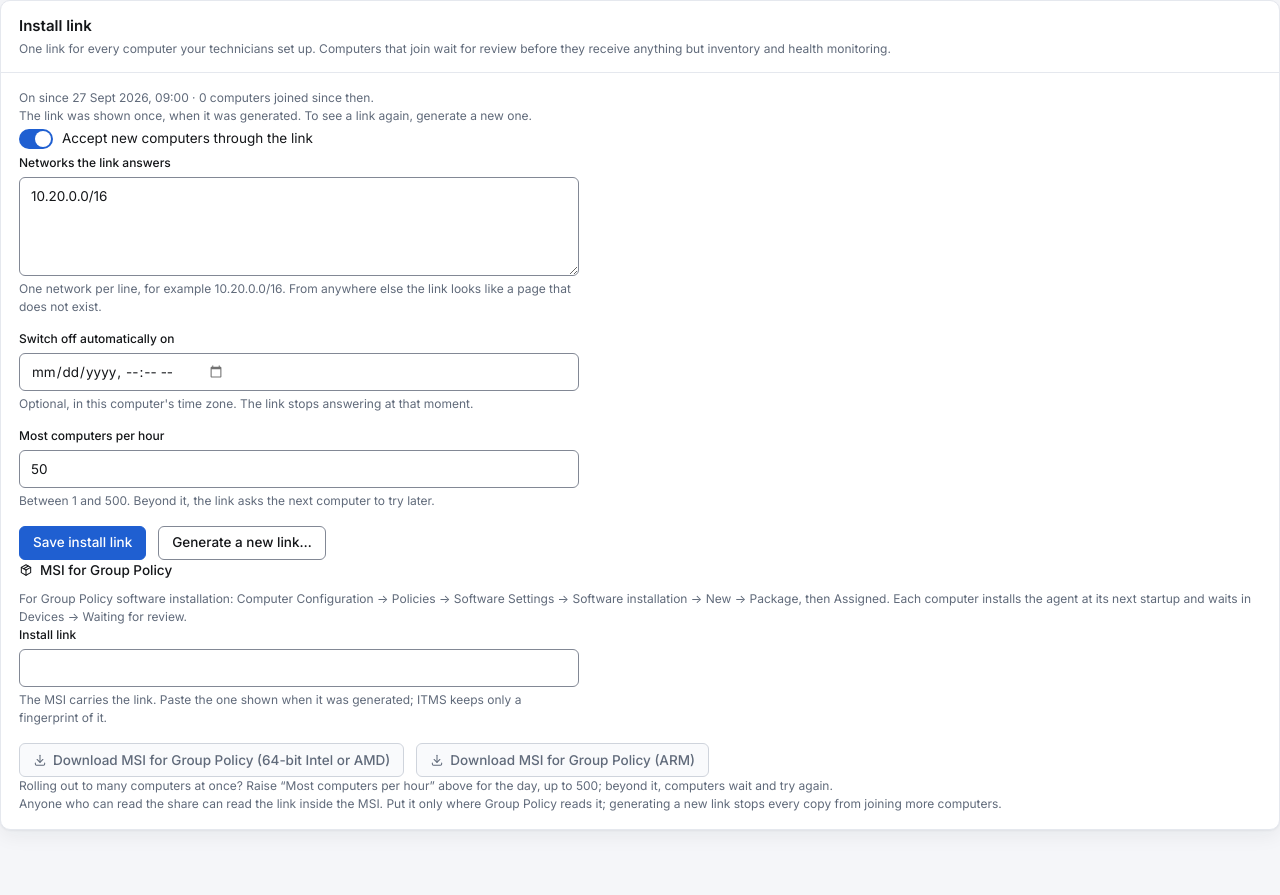
Test: InstallLinkPanel › asks before generating a new link, then shows it once
Click the button "Generate a new link…": (242, 543) top-left (158, 526), bottom-right (326, 560)
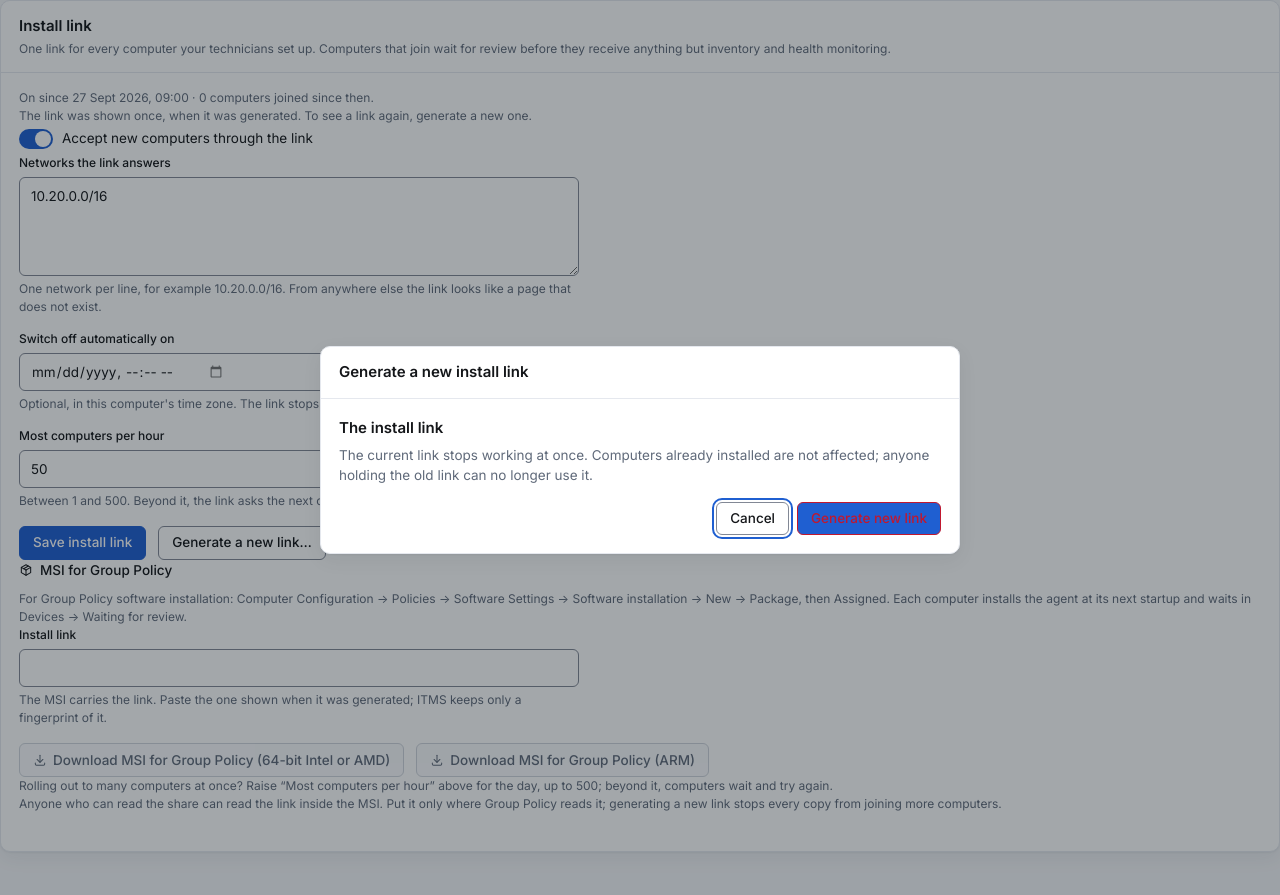
Now the dialog "Generate a new install link" shows "stops working at once", box top-left (339, 447), bottom-right (929, 483)
Click the button "Cancel": (753, 518) top-left (716, 502), bottom-right (789, 535)
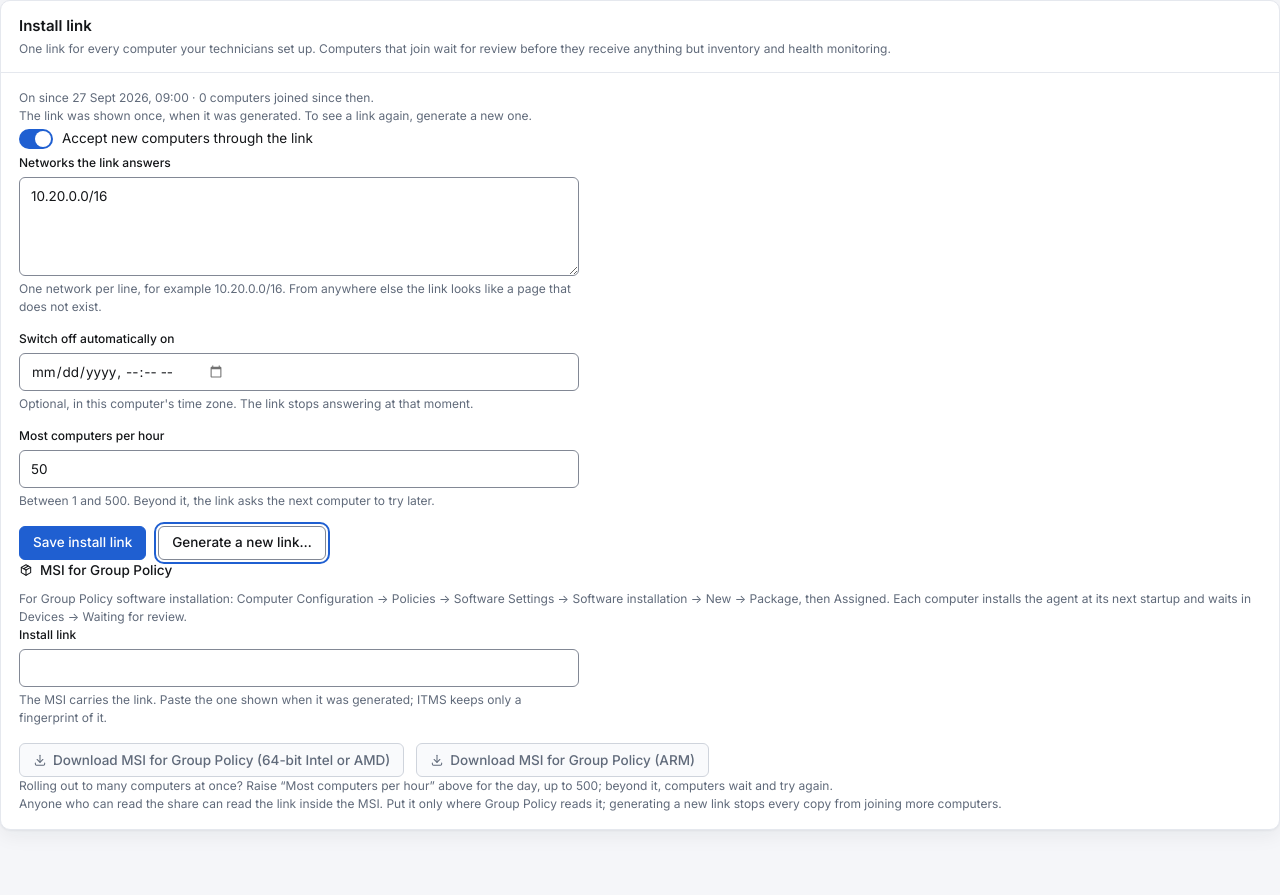
Click the button "Generate a new link…": (242, 543) top-left (158, 526), bottom-right (326, 560)
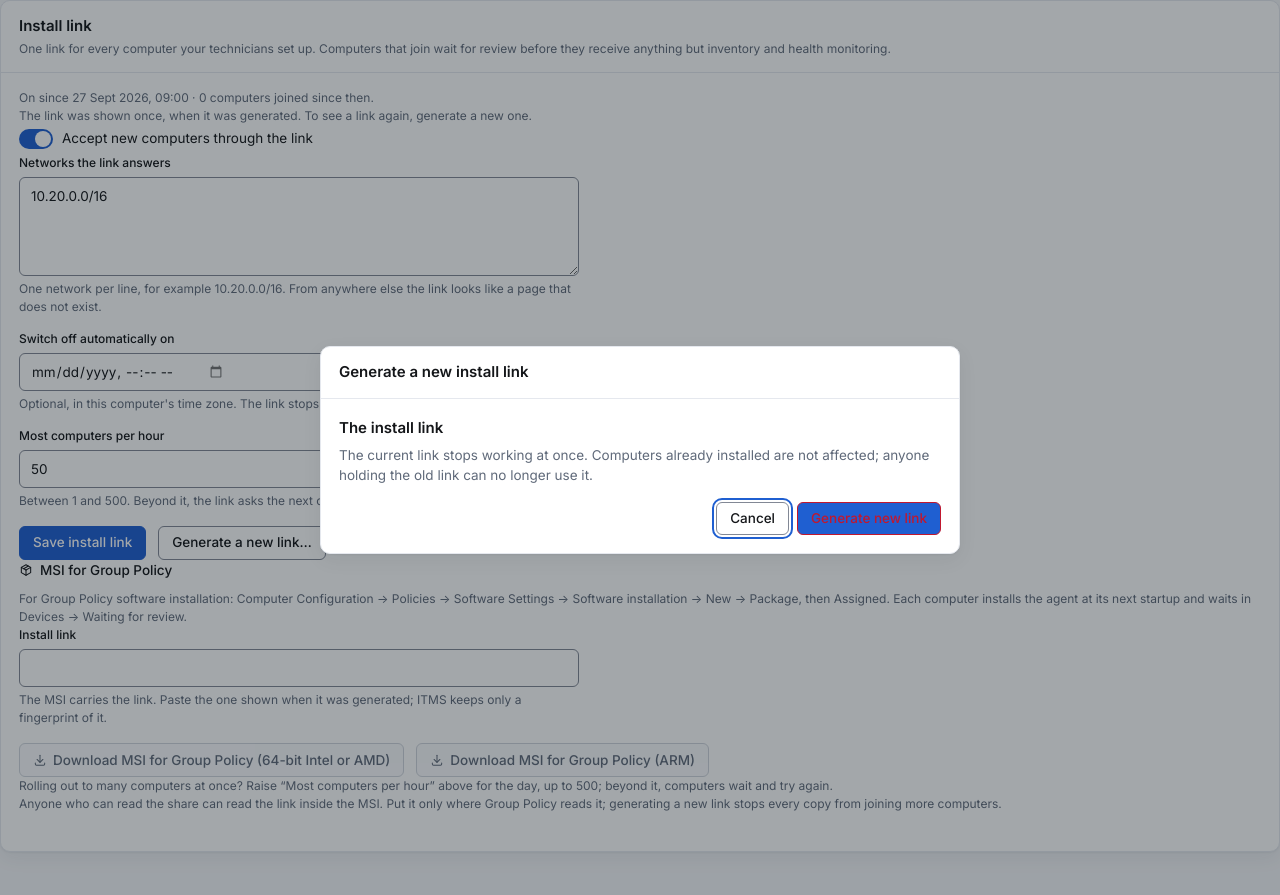
Click the button "Generate new link": (869, 518) top-left (797, 502), bottom-right (941, 535)
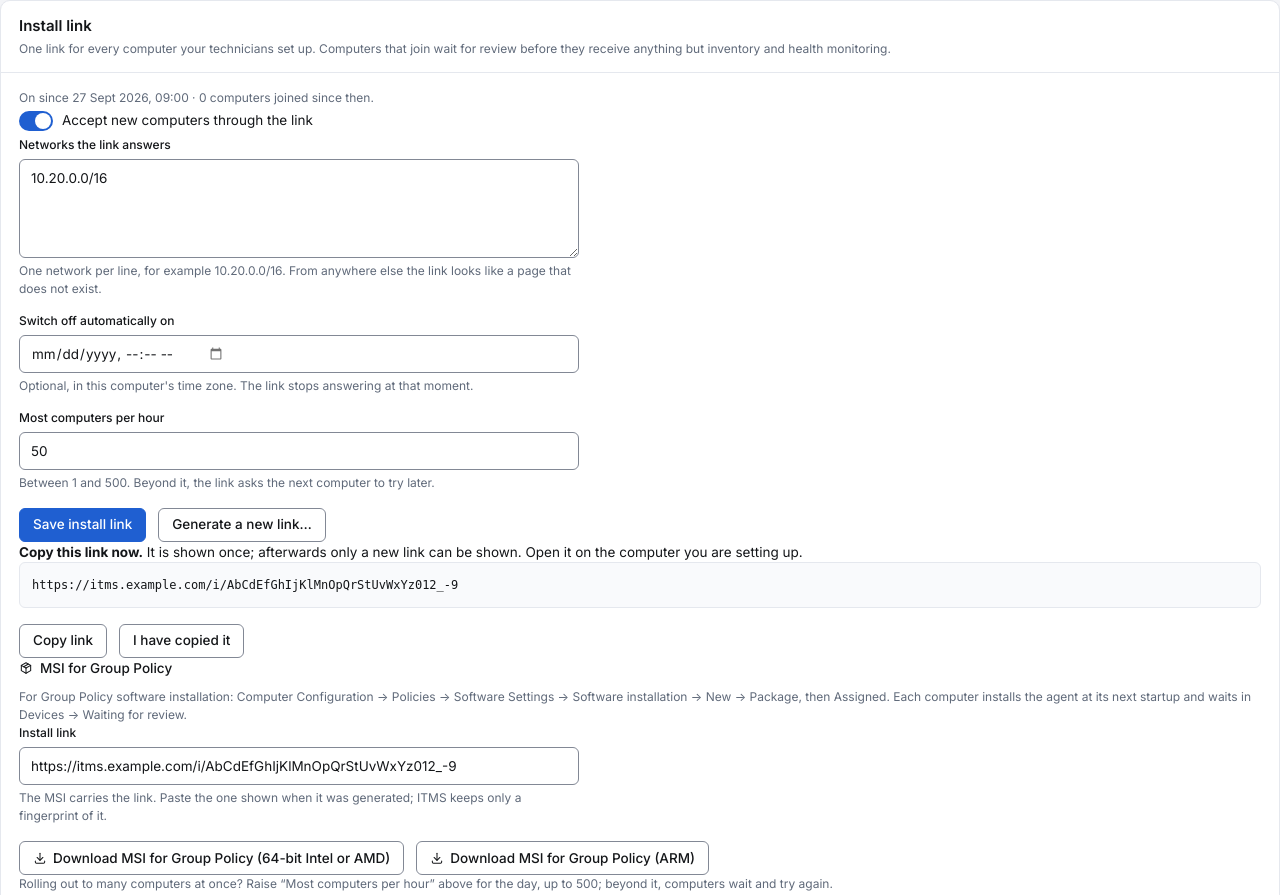
Now the text "https://itms.example.com/i/AbCdEfGhIjKlMnOpQrStUvWxYz012_-9" is shown, box top-left (19, 562), bottom-right (1261, 608)
